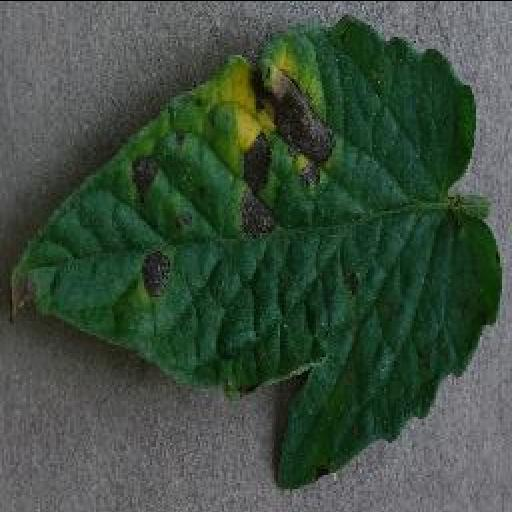disease_tomato: (7, 12, 501, 485)
